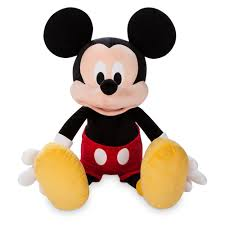mickey: (33, 6, 191, 213)
